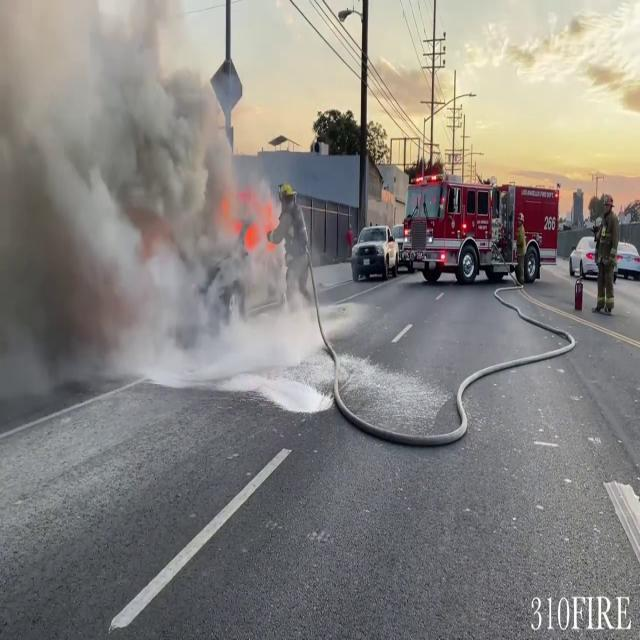Smoke: (0, 0, 274, 393)
